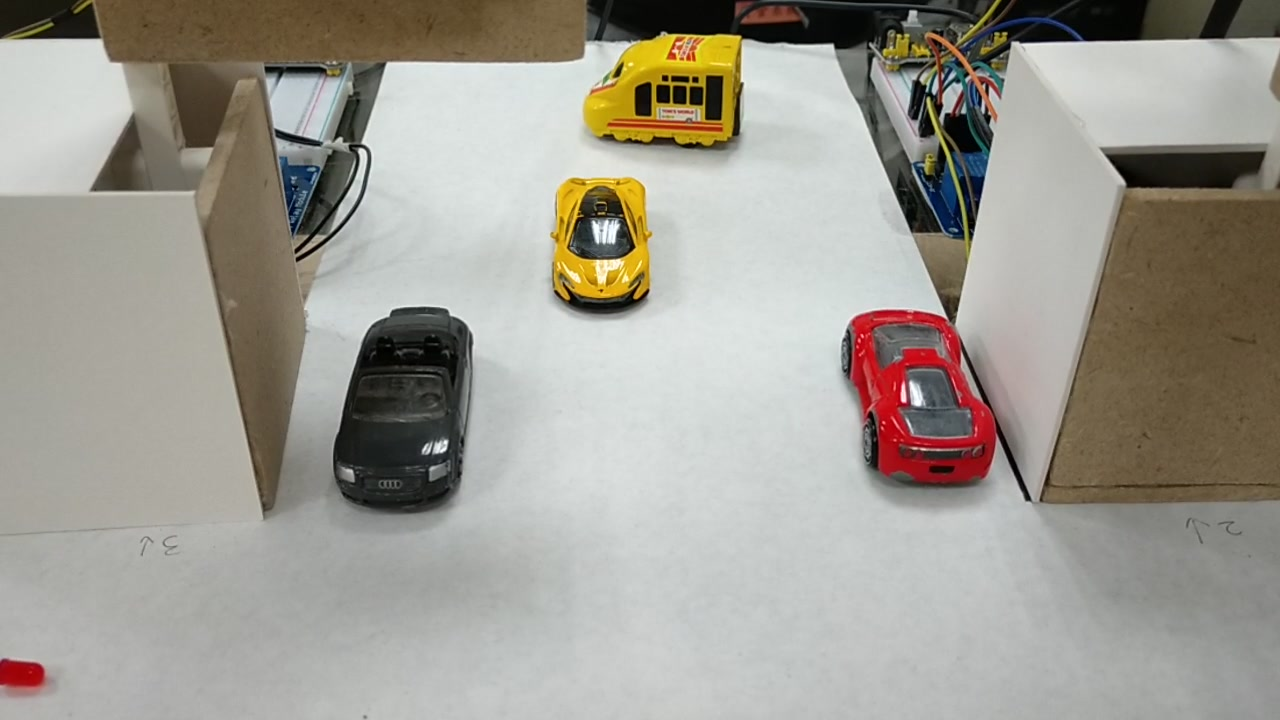car: (333, 300, 475, 511), (836, 310, 997, 494), (558, 169, 647, 309)
